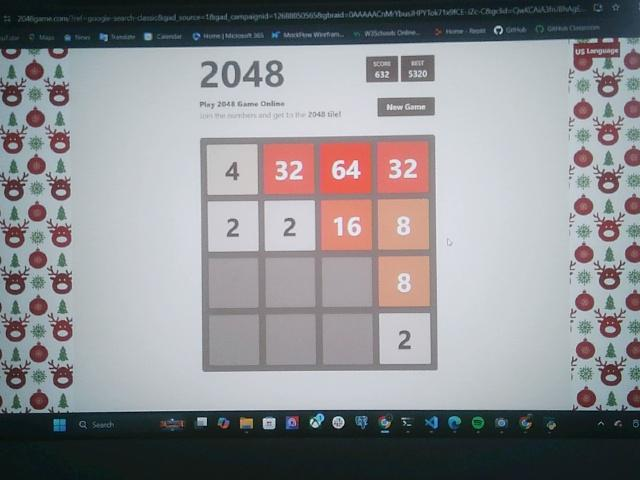board: (201, 138, 435, 372)
tile: (378, 256, 431, 308), (263, 143, 315, 195), (378, 141, 429, 194), (208, 201, 259, 253), (265, 200, 317, 251), (321, 199, 373, 250), (379, 313, 431, 364), (321, 143, 372, 194), (378, 199, 429, 250), (208, 145, 258, 195)
